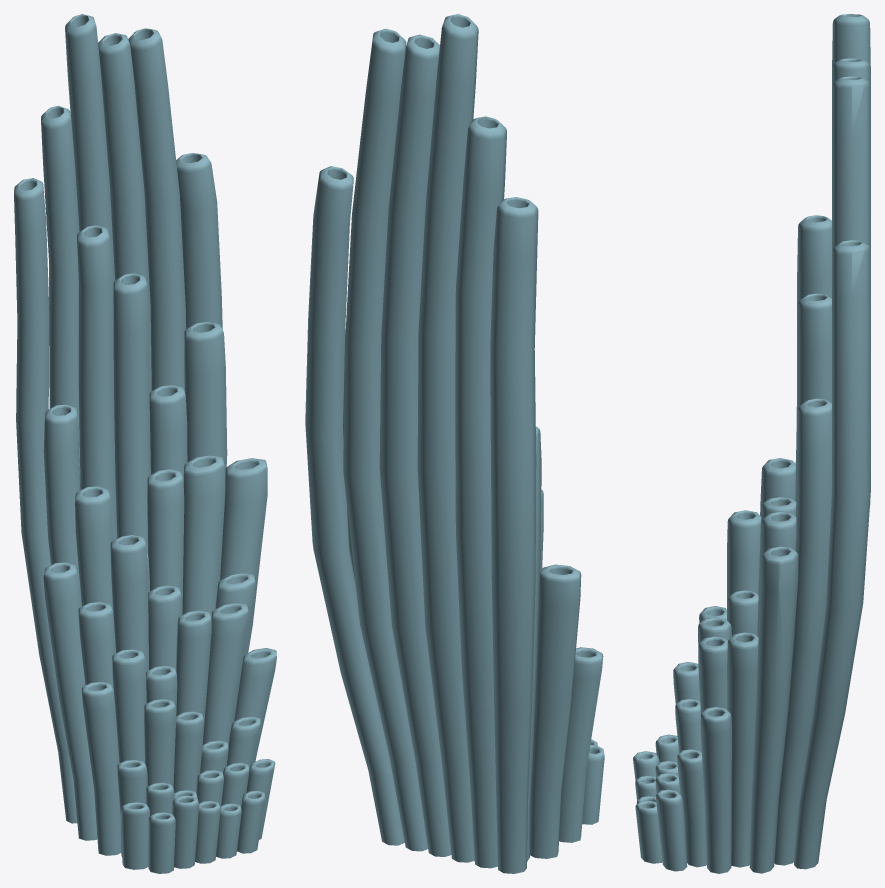
File: geo_obstacle_medium.fbx
3 views of the same model, side by side, from view 1: azimuth 30°, elevation 25°; view 2: azimuth 150°, elevation 25°; view 3: azimuth 270°, elevation 25° (orthographic). The views are drawn at different scales.
Parts seen in each view (by area): view 1: Tubular; view 2: Tubular; view 3: Tubular.
Part boxes in pixels (x1,y1,x2,y2): Tubular: (14,14,276,873); Tubular: (305,14,604,873); Tubular: (633,14,870,873).
Bounding box in the file's own units: 822 × 2732 × 728.
